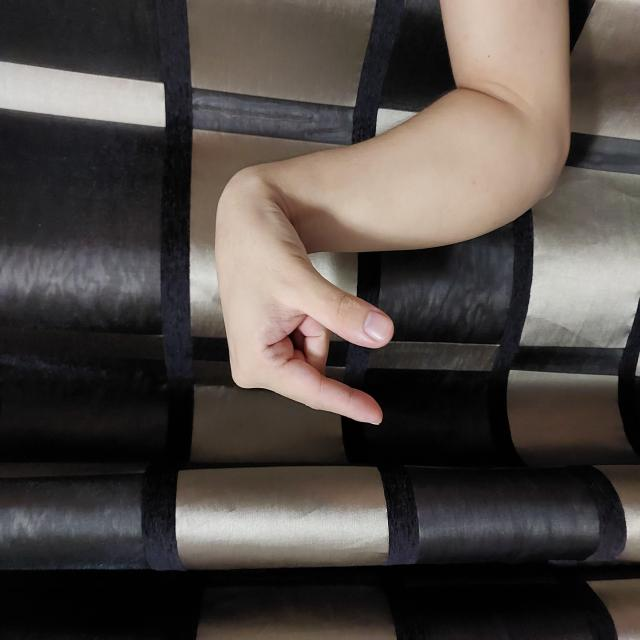Q: (213, 212, 442, 395)
